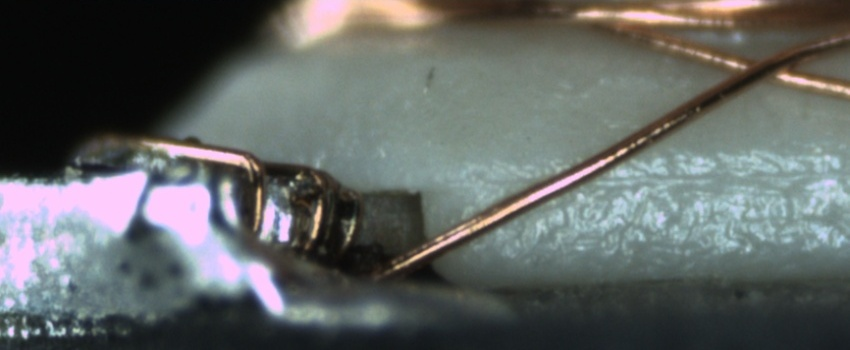CL: (714, 45, 810, 91)
DL: (487, 152, 850, 211)
TE: (92, 121, 364, 259)
